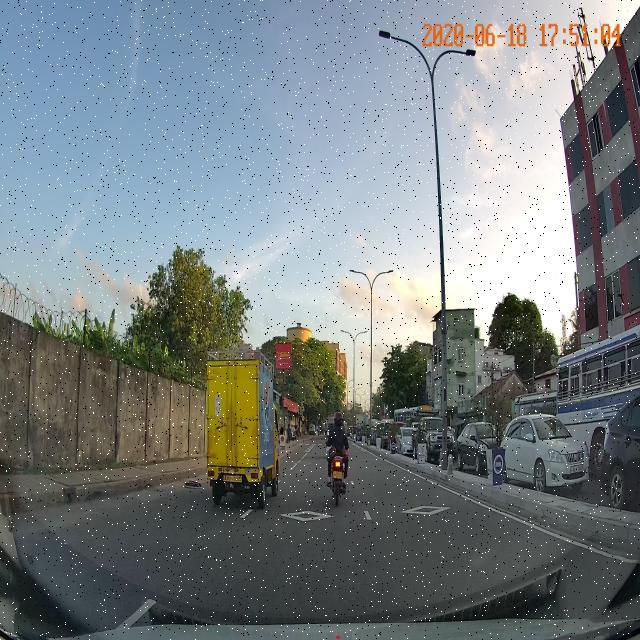diamond: (218, 494, 383, 538)
